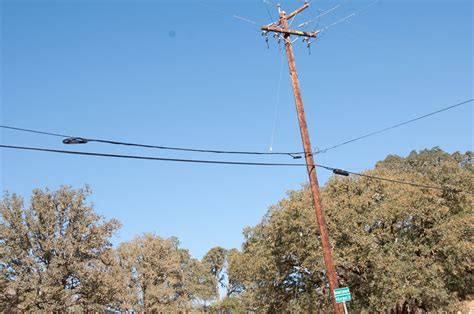pole: (239, 2, 365, 314)
